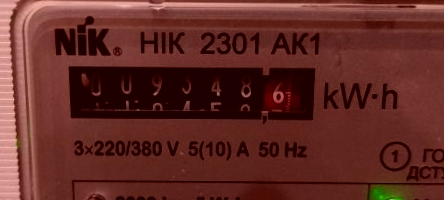0: (87, 71, 103, 97), (118, 68, 132, 94)
3: (179, 69, 193, 95)
4: (206, 68, 224, 98)
6: (269, 76, 286, 105)
8: (238, 71, 253, 99)
9: (149, 71, 163, 98)
screen: (50, 51, 328, 130)
